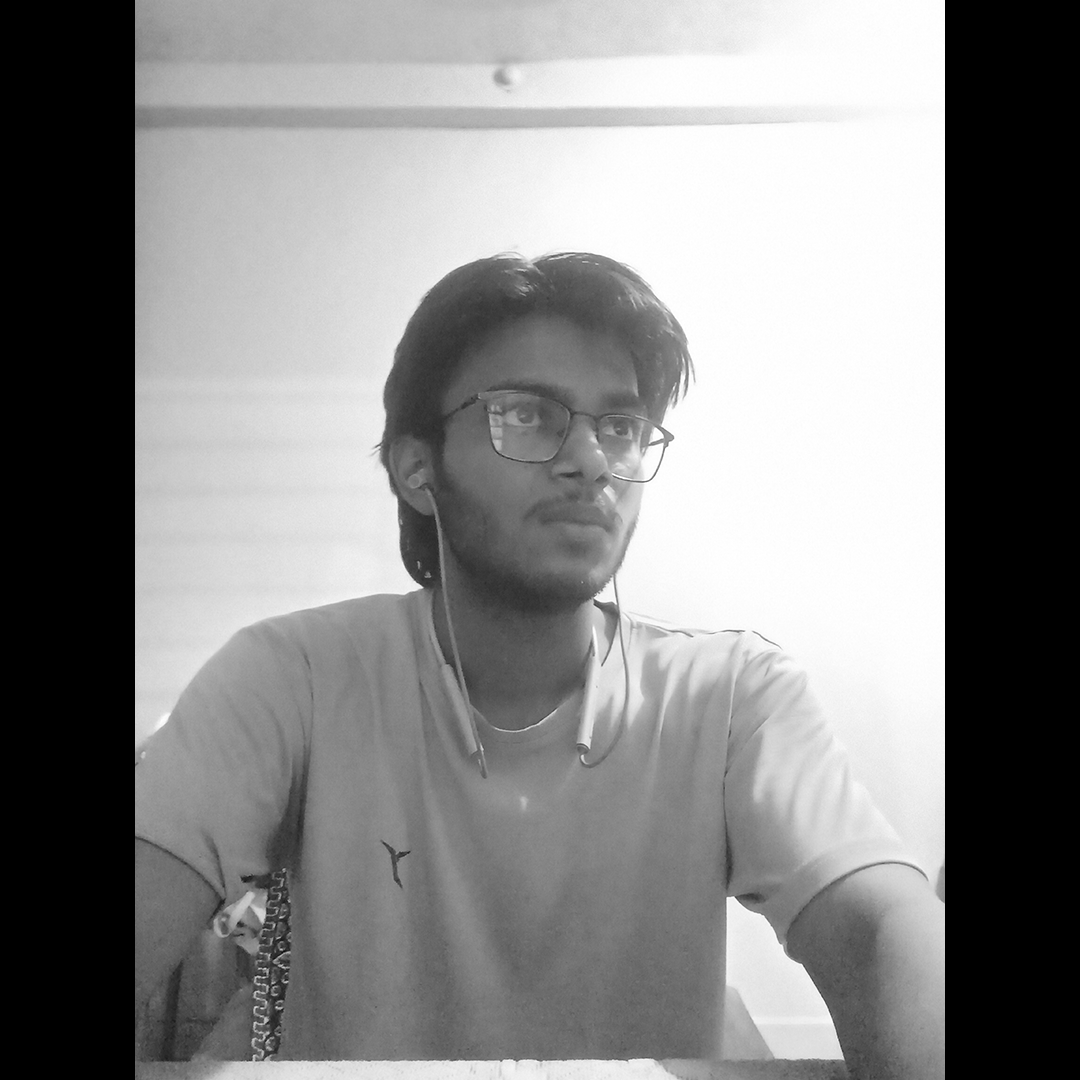Focused: (246, 146, 847, 960)
